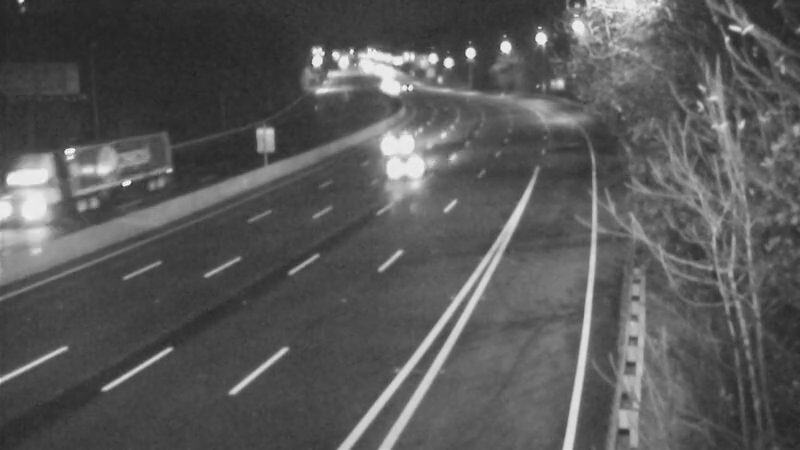vehicle: (368, 129, 448, 209), (34, 146, 114, 226), (385, 61, 435, 111), (373, 119, 423, 169)
